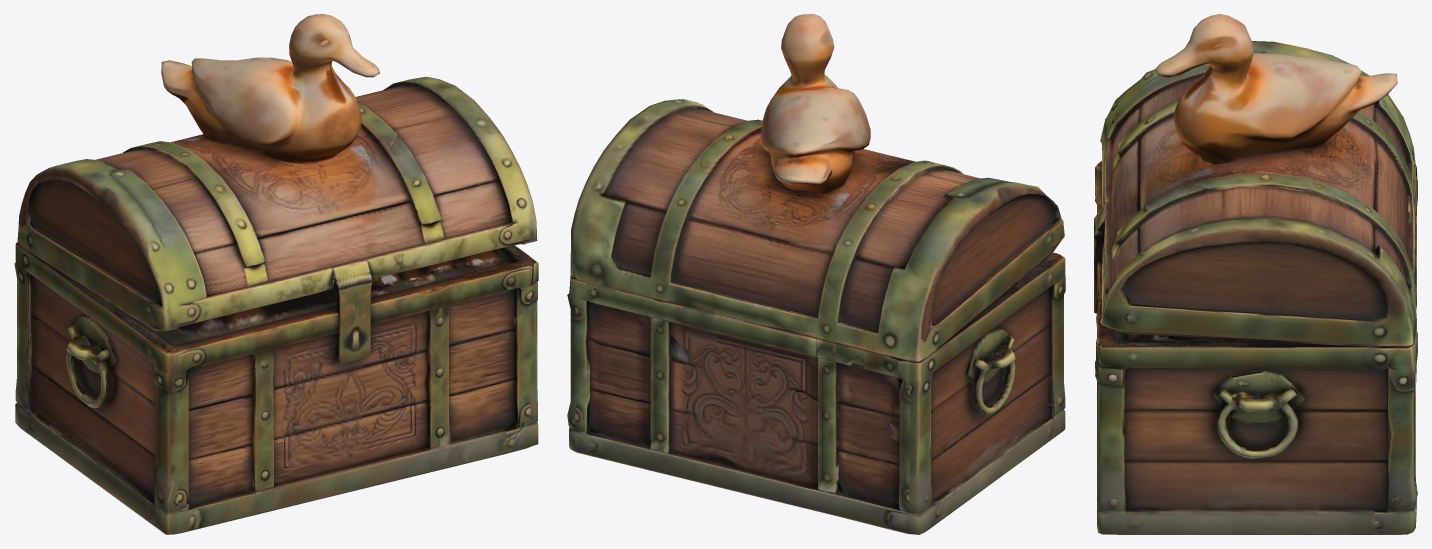
Rendered from duck-web.glb.
The picture shows the model from 3 angles, left to right: view 1: azimuth 30°, elevation 25°; view 2: azimuth 150°, elevation 25°; view 3: azimuth 270°, elevation 25°; orthographic projection. The views are drawn at different scales.
Size of the model in its own units: 2 by 1.97 by 1.32.
Materials: 1 (1 with a texture image).
